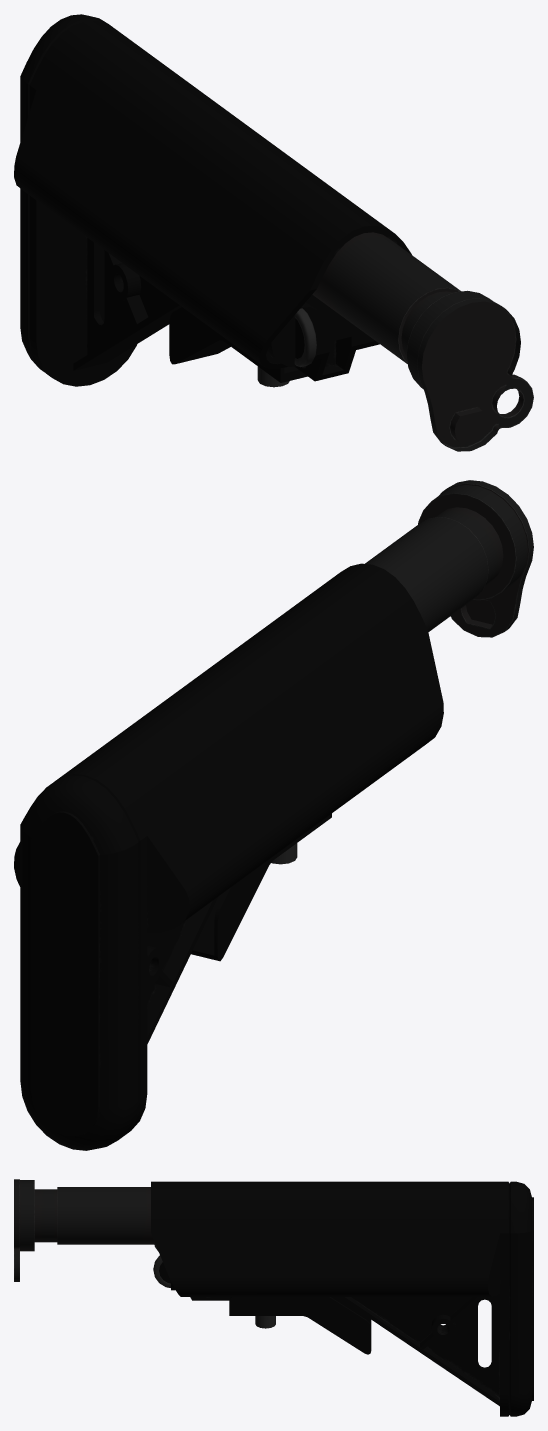
File: Stock.fbx
3 views of the same model, one above another, from view 1: azimuth 30°, elevation 25°; view 2: azimuth 150°, elevation 25°; view 3: azimuth 270°, elevation 25° (orthographic). The views are drawn at different scales.
Visible parts, largest first — view 1: StockBack, StockFront; view 2: StockBack, StockFront; view 3: StockBack, StockFront.
Boxes of the visible parts, box(x1,y1,x2,y2) form: StockBack: box(14, 14, 411, 387); StockFront: box(312, 232, 533, 451); StockBack: box(14, 563, 443, 1150); StockFront: box(365, 480, 533, 637); StockBack: box(151, 1181, 533, 1416); StockFront: box(14, 1179, 155, 1281).
Size of the model in its own units: 6.17 by 12.44 by 25.44.
Materials: 1 (1 with a texture image).
